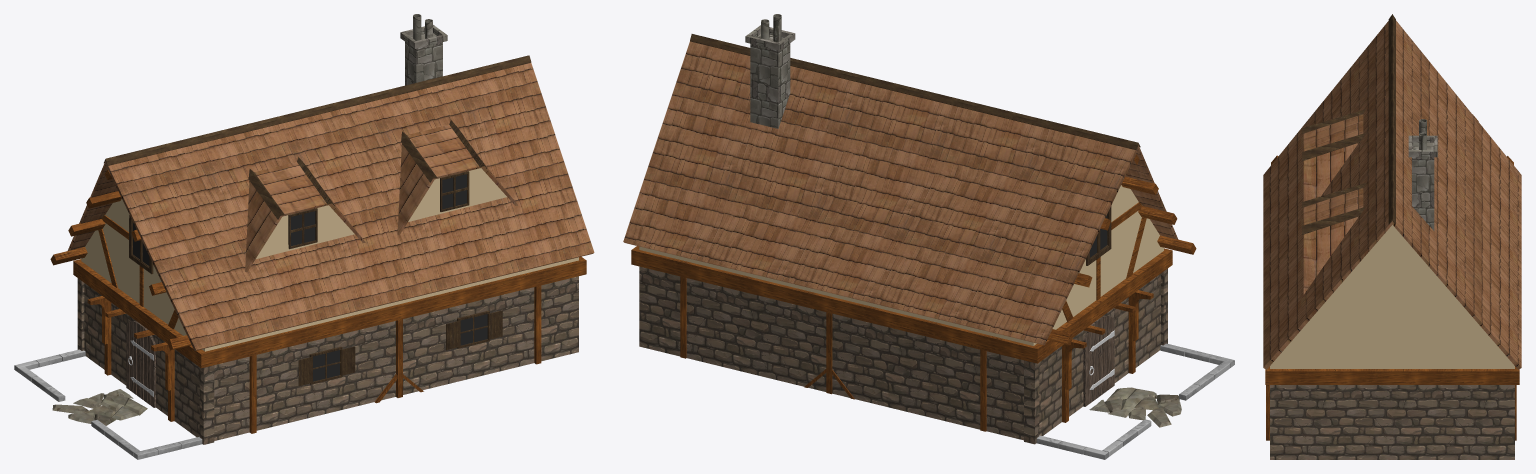
Rendered from Taverna 2.fbx.
The picture shows the model from 3 angles, left to right: view 1: azimuth 30°, elevation 25°; view 2: azimuth 150°, elevation 25°; view 3: azimuth 270°, elevation 25°; orthographic projection. The views are drawn at different scales.
Visible parts, largest first — view 1: House 4.012, House 4.005, Cube.033, House 4.020, Cube.028, Cube.038, Bloco 1, Cube.034, House 1.001, copia piso .016, House 4.021, House 1.002; view 2: House 4.012, House 4.005, Cube.033, Cube.038, House 4.020, Bloco 1, House 1.001, copia piso .016, House 1.002; view 3: House 4.012, House 4.005, Cube.033, Cube.038, House 4.021, House 4.020.
Part boxes in pixels (<box>): House 4.012: <box>67,63,594,350</box>; House 4.005: <box>77,168,578,444</box>; Cube.033: <box>50,169,586,433</box>; House 4.020: <box>104,55,531,165</box>; Cube.028: <box>298,310,502,385</box>; Cube.038: <box>400,14,447,85</box>; Bloco 1: <box>14,349,202,459</box>; Cube.034: <box>288,171,469,249</box>; House 1.001: <box>126,321,155,407</box>; copia piso .016: <box>52,389,147,425</box>; House 4.021: <box>248,120,486,219</box>; House 1.002: <box>129,215,153,274</box>; House 4.012: <box>623,41,1178,345</box>; House 4.005: <box>639,185,1167,444</box>; Cube.033: <box>631,154,1196,431</box>; Cube.038: <box>745,14,795,128</box>; House 4.020: <box>690,34,1140,150</box>; Bloco 1: <box>1036,343,1234,459</box>; House 1.001: <box>1083,315,1114,406</box>; copia piso .016: <box>1089,387,1181,427</box>; House 1.002: <box>1086,206,1111,265</box>; House 4.012: <box>1263,20,1521,369</box>; House 4.005: <box>1270,225,1514,459</box>; Cube.033: <box>1265,114,1519,440</box>; Cube.038: <box>1408,119,1437,230</box>; House 4.021: <box>1302,109,1365,234</box>; House 4.020: <box>1388,14,1395,224</box>.
Bounding box in the file's own units: 1295 × 801 × 626.
